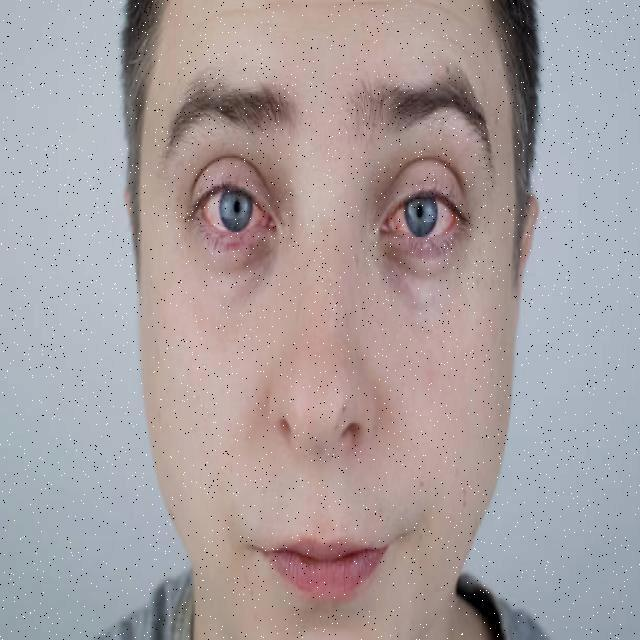Conjunctivitis: (193, 194, 278, 242), (381, 204, 464, 246)
